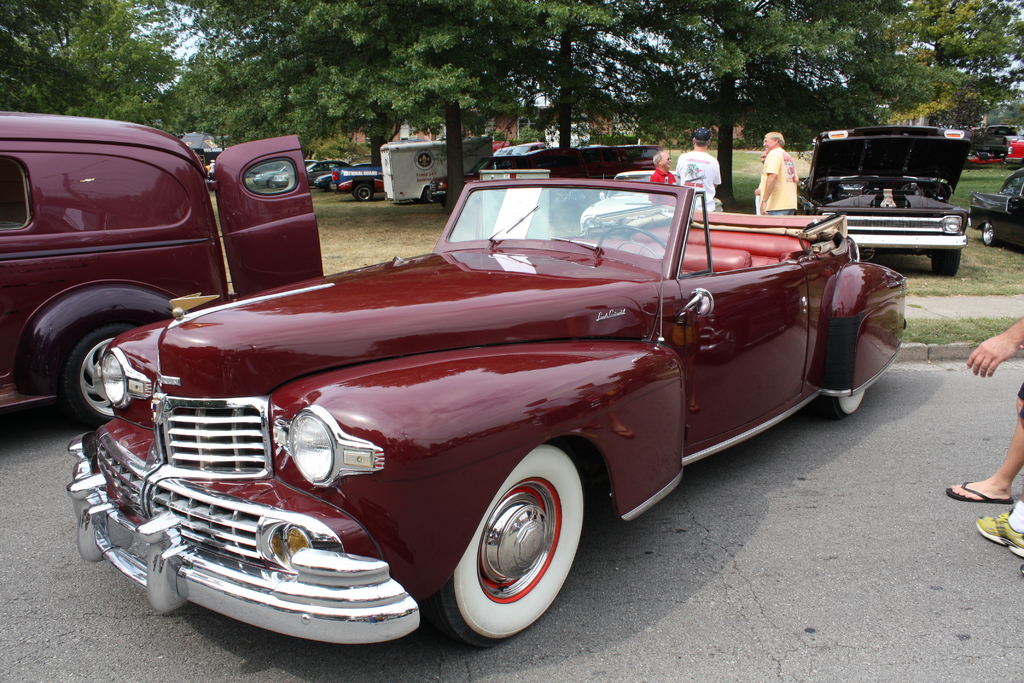Car: (62, 167, 920, 637), (0, 110, 318, 426), (794, 111, 968, 277), (956, 157, 1023, 241), (967, 119, 1023, 158)
